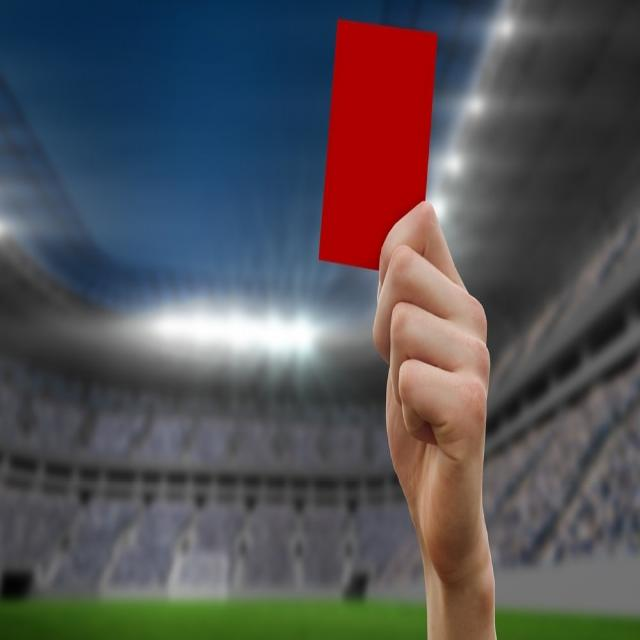red-card: (314, 9, 513, 640)
